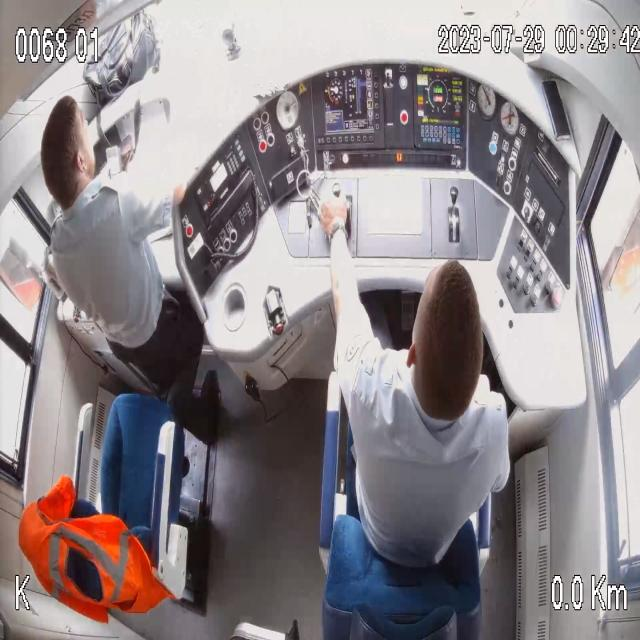smartphone: (106, 134, 137, 181)
